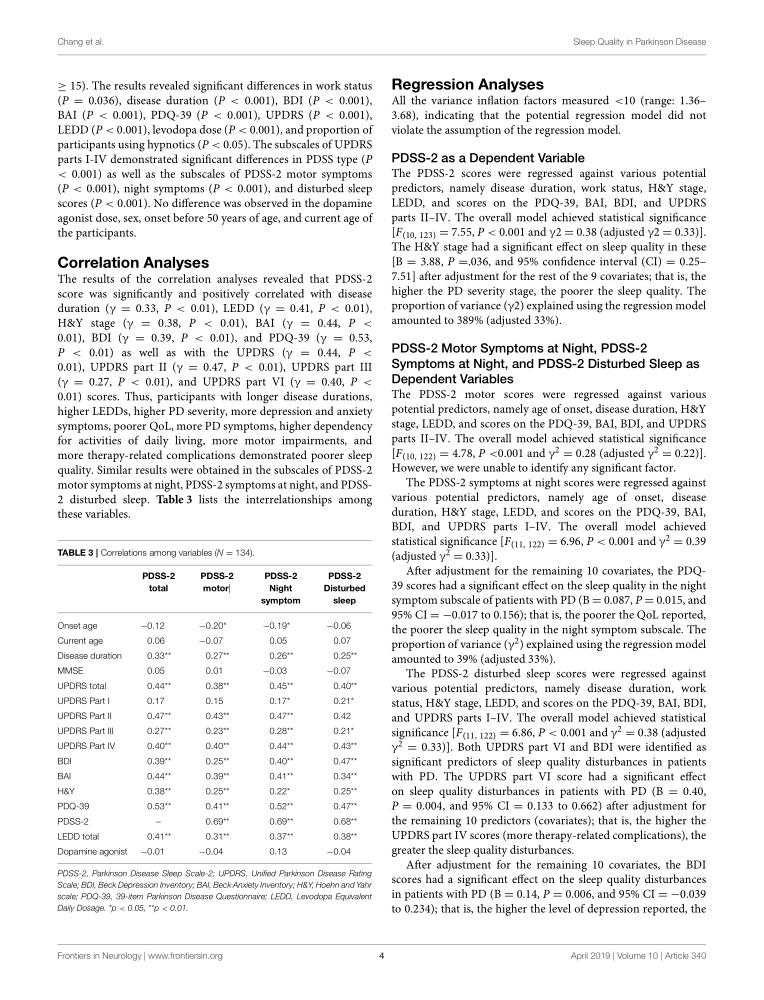table: (57, 572, 365, 856)
